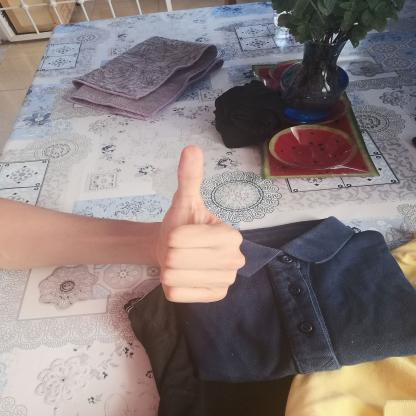ALIF: (141, 133, 254, 314)
